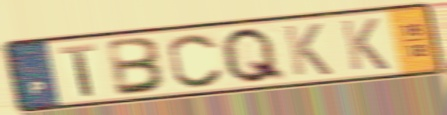B: (106, 35, 170, 98)
C: (165, 31, 227, 90)
K: (280, 21, 336, 78), (338, 16, 393, 73)
Q: (218, 25, 290, 86)
T: (56, 42, 99, 98)
